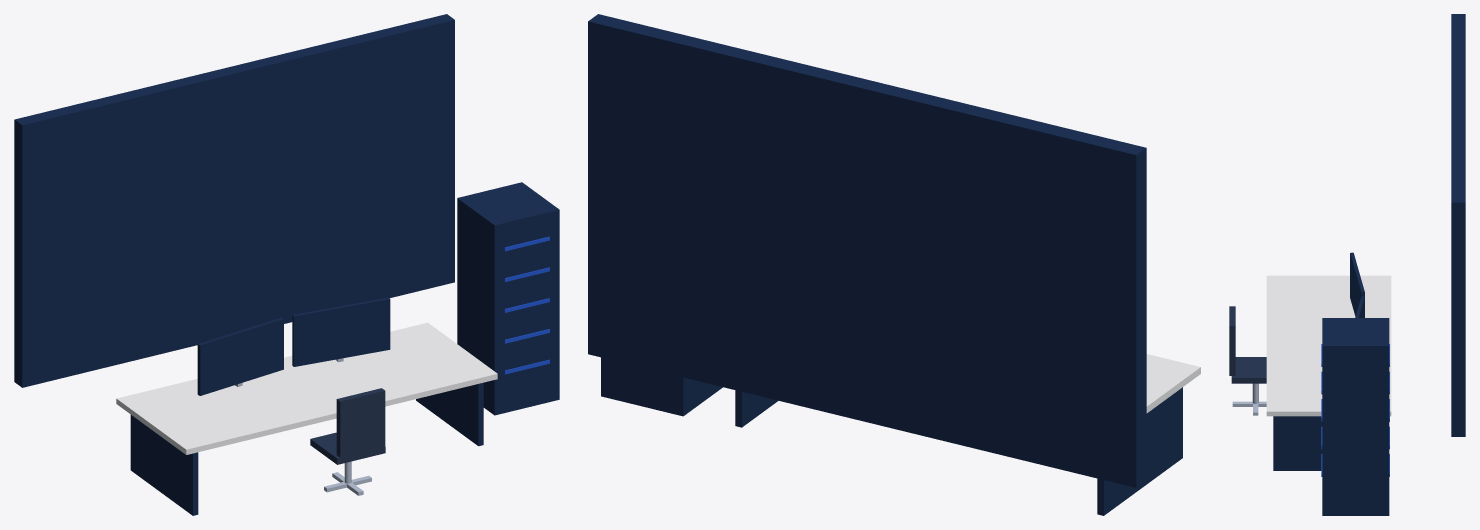
File: workspace-modern.glb
3 views of the same model, side by side, from view 1: azimuth 30°, elevation 25°; view 2: azimuth 150°, elevation 25°; view 3: azimuth 270°, elevation 25° (orthographic). The views are drawn at different scales.
Parts seen in each view (by area): view 1: ModernWorkspace; view 2: ModernWorkspace; view 3: ModernWorkspace.
Boxes of the visible parts, left/top/right/bottom form: ModernWorkspace: left=14, top=14, right=559, bottom=515; ModernWorkspace: left=588, top=14, right=1200, bottom=515; ModernWorkspace: left=1229, top=14, right=1465, bottom=515.
Bounding box in the file's own units: 5.38 × 3.7 × 2.64.
